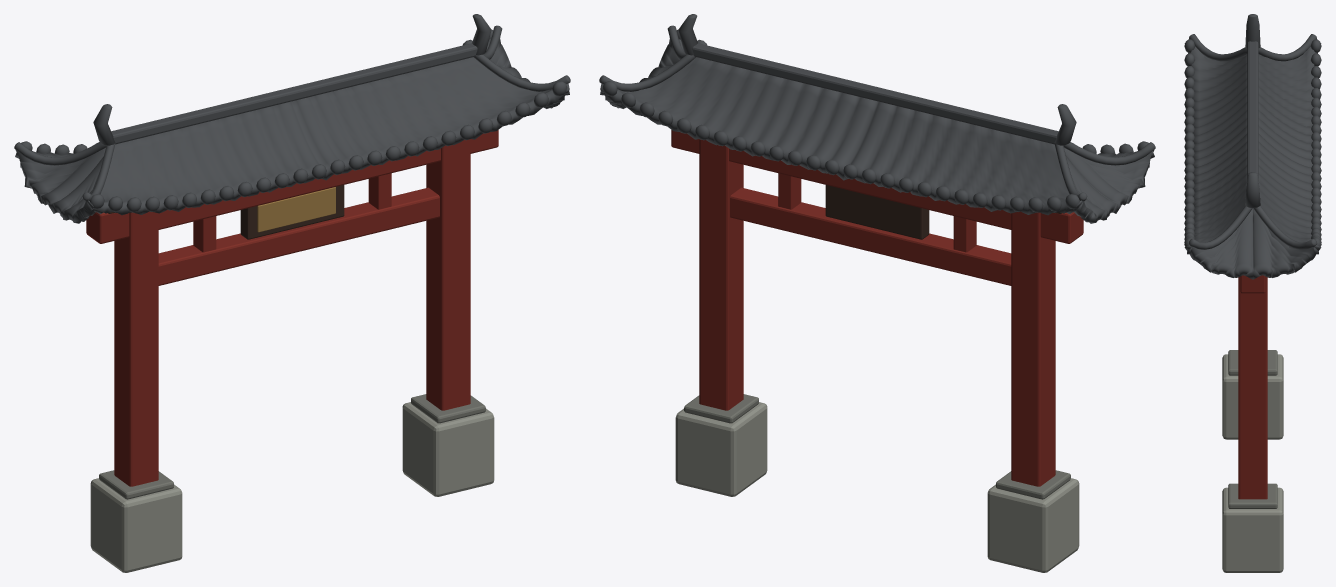
File: gate.glb
3 renders of one model, left to right at view 1: azimuth 30°, elevation 25°; view 2: azimuth 150°, elevation 25°; view 3: azimuth 270°, elevation 25°, orthographic. The views are drawn at different scales.
Visible parts, largest first — view 1: gate; view 2: gate; view 3: gate.
Boxes of the visible parts, left/top/right/bottom form: gate: left=14, top=14, right=570, bottom=572; gate: left=599, top=14, right=1155, bottom=572; gate: left=1184, top=14, right=1321, bottom=572.
Size of the model in its own units: 5 by 4.49 by 1.39.
